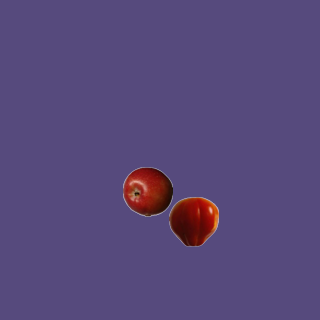Apple Braeburn: (122, 166, 172, 216)
Tomato 1: (168, 196, 218, 246)
